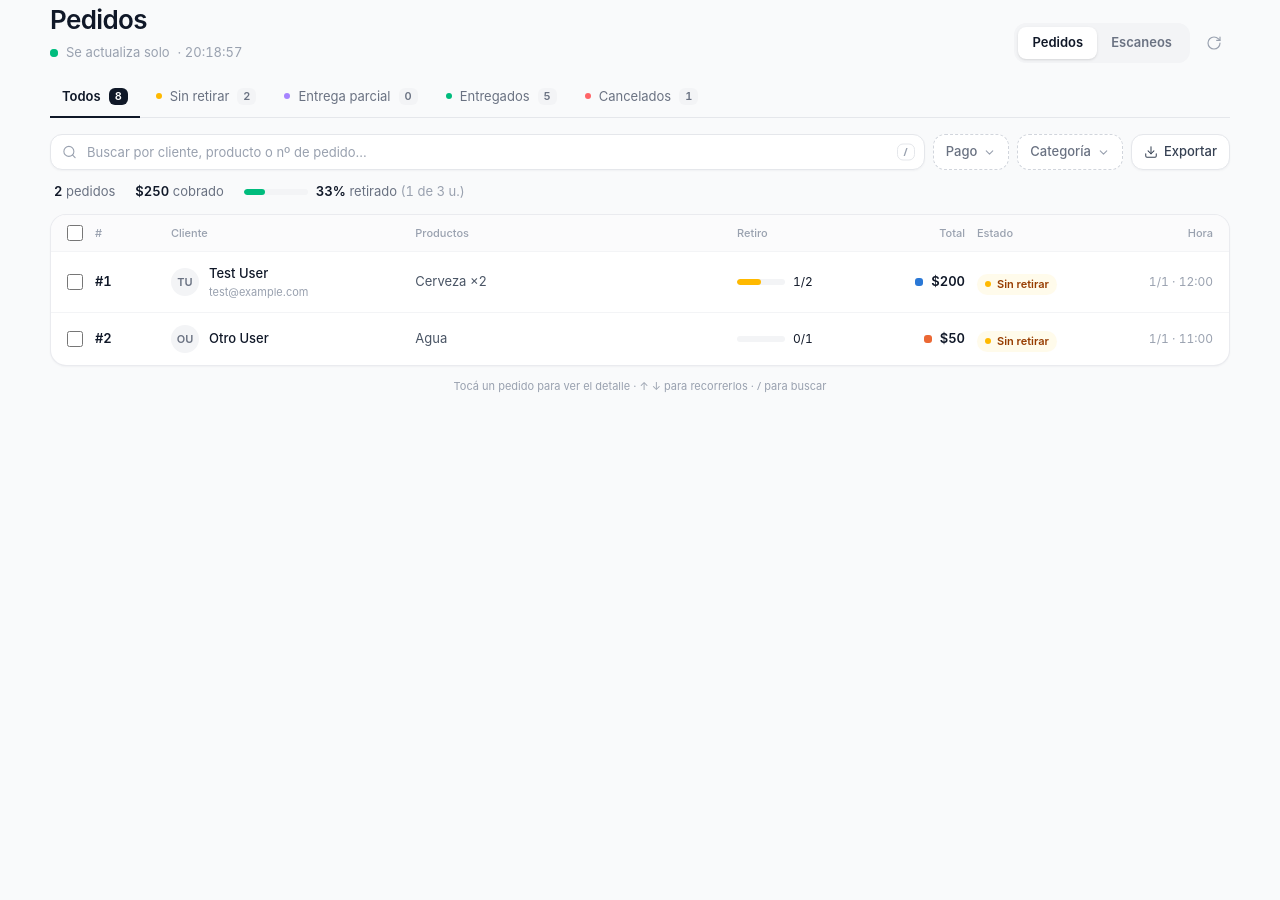
Test case: OrdersView › selección múltiple › "seleccionar todos" marca la página entera
The image size is (1280, 900).
Click the checkbox named "Seleccionar todos los pedidos de la página" at [75, 233], box [67,225,83,241]
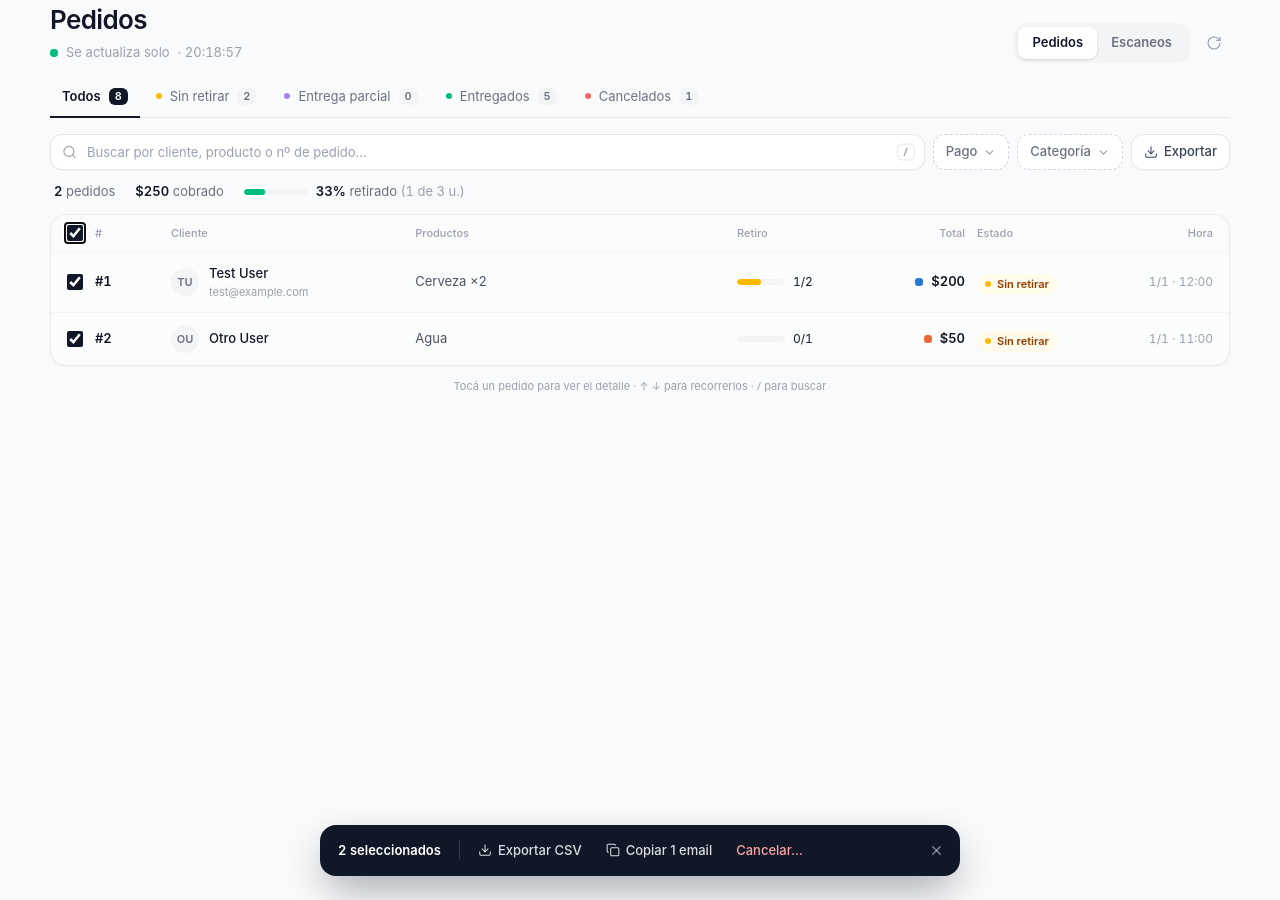
expect the text "2 seleccionados" is shown: met, box [338,842,441,858]
